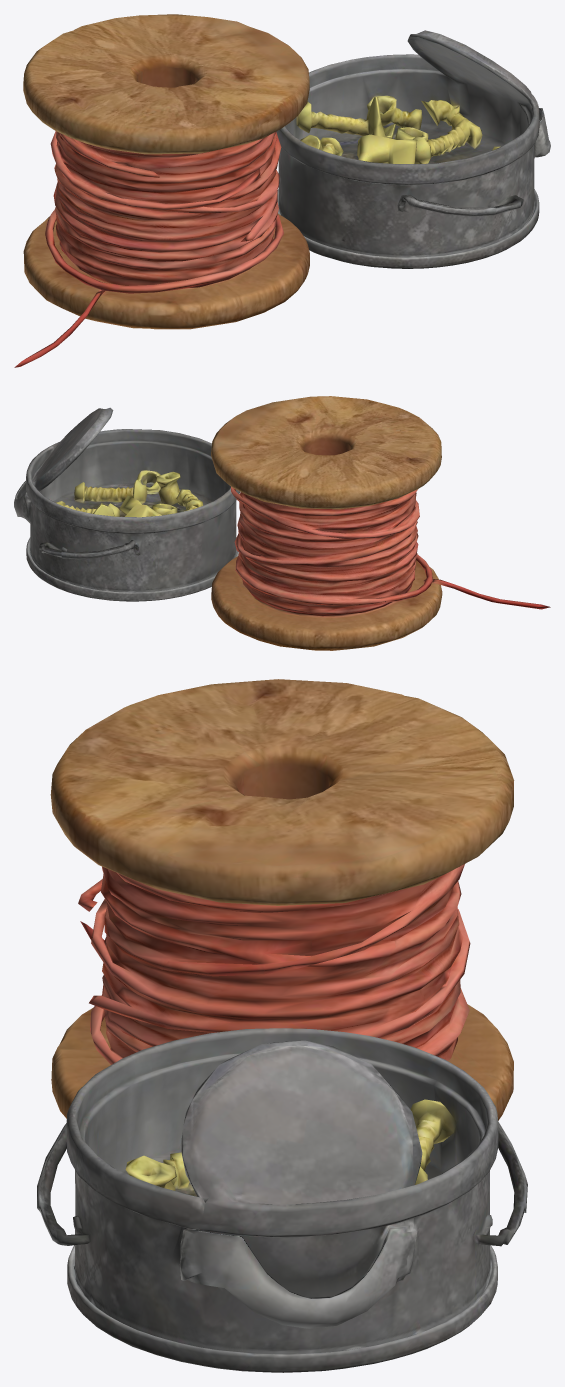
Rendered from spool.glb.
3 views of the same model, one above another, from view 1: azimuth 30°, elevation 25°; view 2: azimuth 150°, elevation 25°; view 3: azimuth 270°, elevation 25° (orthographic). The views are drawn at different scales.
Parts seen in each view (by area): view 1: copper wire spool 3d model; view 2: copper wire spool 3d model; view 3: copper wire spool 3d model.
Part boxes in pixels (x1,y1,x2,y2): copper wire spool 3d model: [14, 14, 550, 367]; copper wire spool 3d model: [14, 396, 550, 650]; copper wire spool 3d model: [37, 679, 527, 1372].
Size of the model in its own units: 0.2922 by 0.095 by 0.1301.
Materials: 1 (1 with a texture image).
